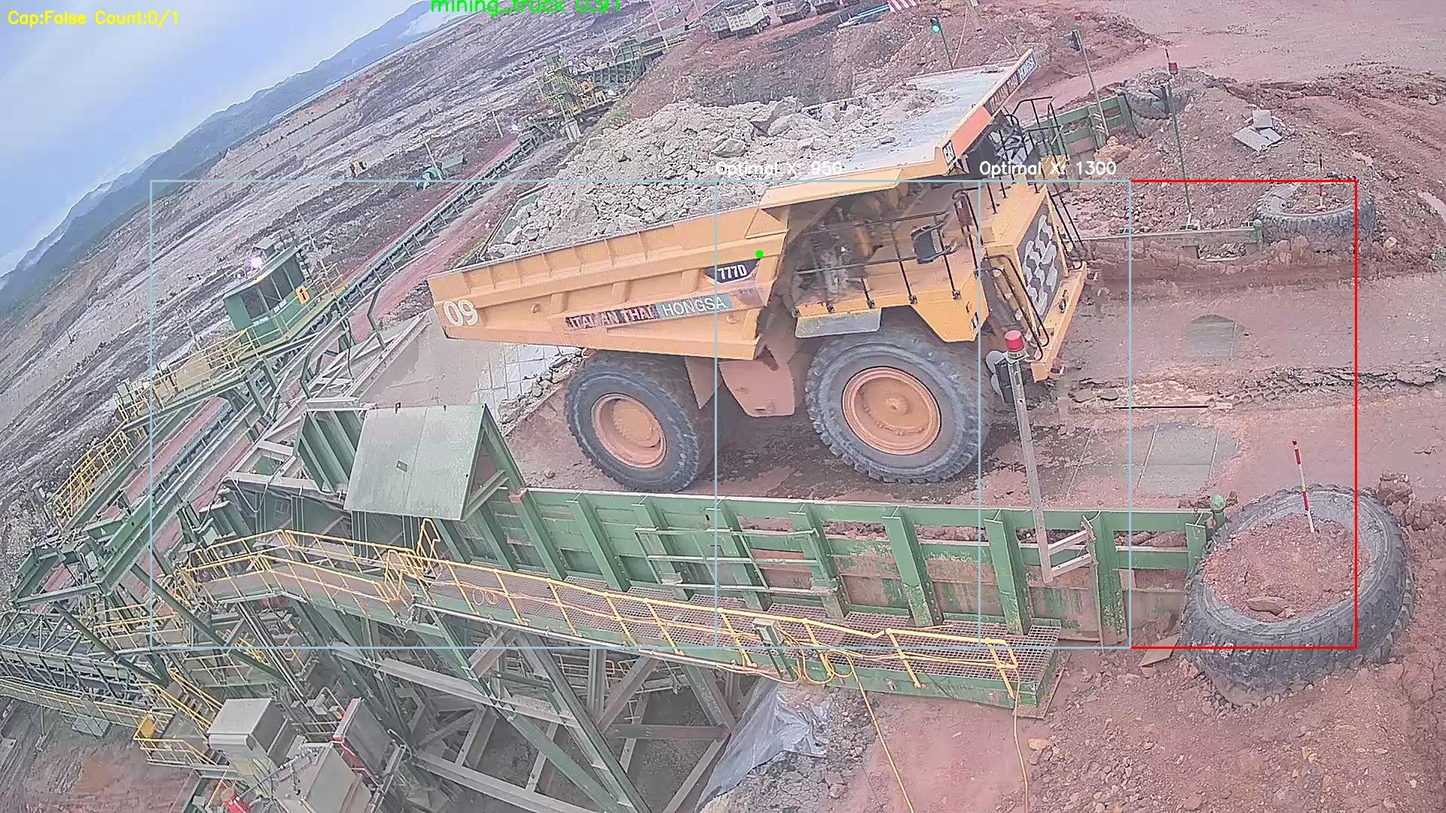company: (561, 293, 735, 330)
full_load: (528, 91, 794, 232)
mining_truck: (417, 54, 1107, 495)
tail_number: (434, 287, 487, 338)
truck_size: (705, 255, 764, 284)
